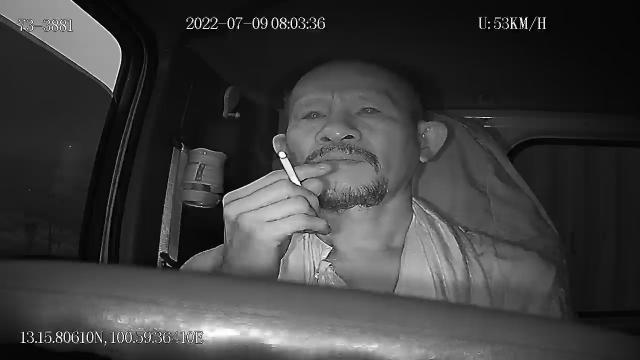SafeDriving: (348, 96, 391, 125), (292, 100, 332, 126)
Smoking: (277, 150, 303, 188)
